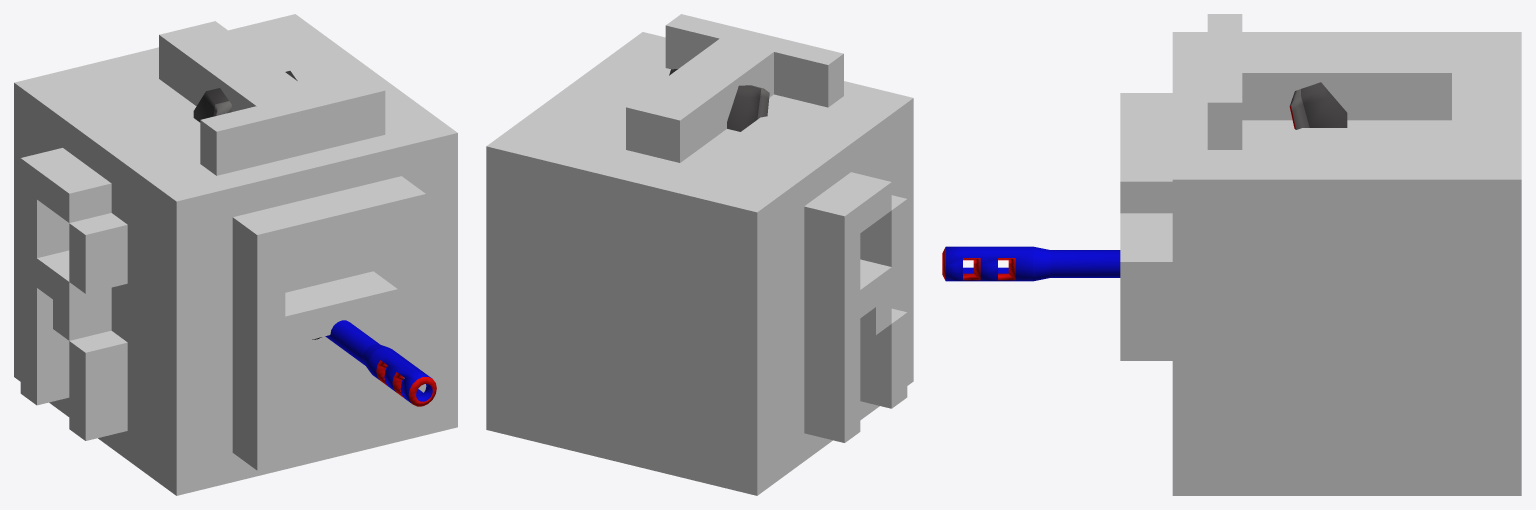
File: Cannon.glb
3 views of the same model, side by side, from view 1: azimuth 30°, elevation 25°; view 2: azimuth 150°, elevation 25°; view 3: azimuth 270°, elevation 25° (orthographic). The views are drawn at different scales.
Visible parts, largest first — view 1: TestStaticMesh2, Cannon.Large, Cockpit; view 2: TestStaticMesh2, Cockpit; view 3: TestStaticMesh2, Cannon.Large, Cockpit.
Boxes of the visible parts, x1=… form: TestStaticMesh2: x1=14, y1=14, x2=457, y2=495; Cannon.Large: x1=325, y1=320, x2=436, y2=406; Cockpit: x1=193, y1=71, x2=297, y2=122; TestStaticMesh2: x1=486, y1=14, x2=913, y2=495; Cockpit: x1=669, y1=69, x2=769, y2=131; TestStaticMesh2: x1=1120, y1=14, x2=1521, y2=495; Cannon.Large: x1=942, y1=246, x2=1120, y2=281; Cockpit: x1=1289, y1=82, x2=1347, y2=129.
Size of the model in its own units: 2.3 by 2.3 by 3.32.
